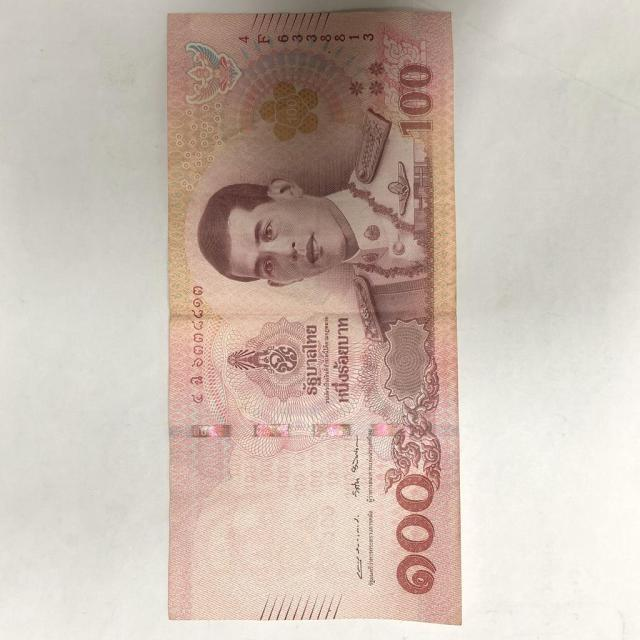THAI100: (168, 11, 461, 624)
